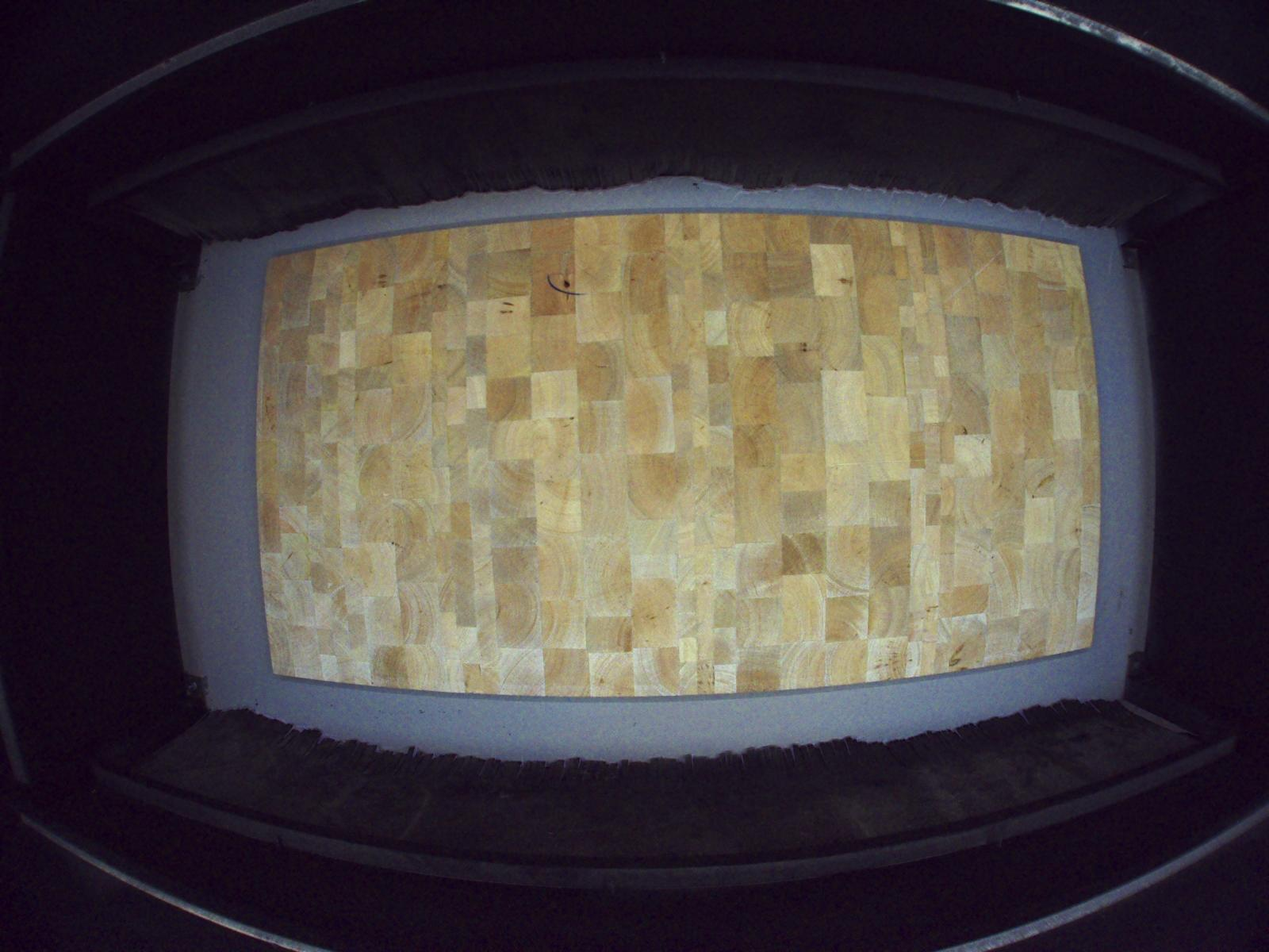nudillo: (561, 271, 573, 302)
